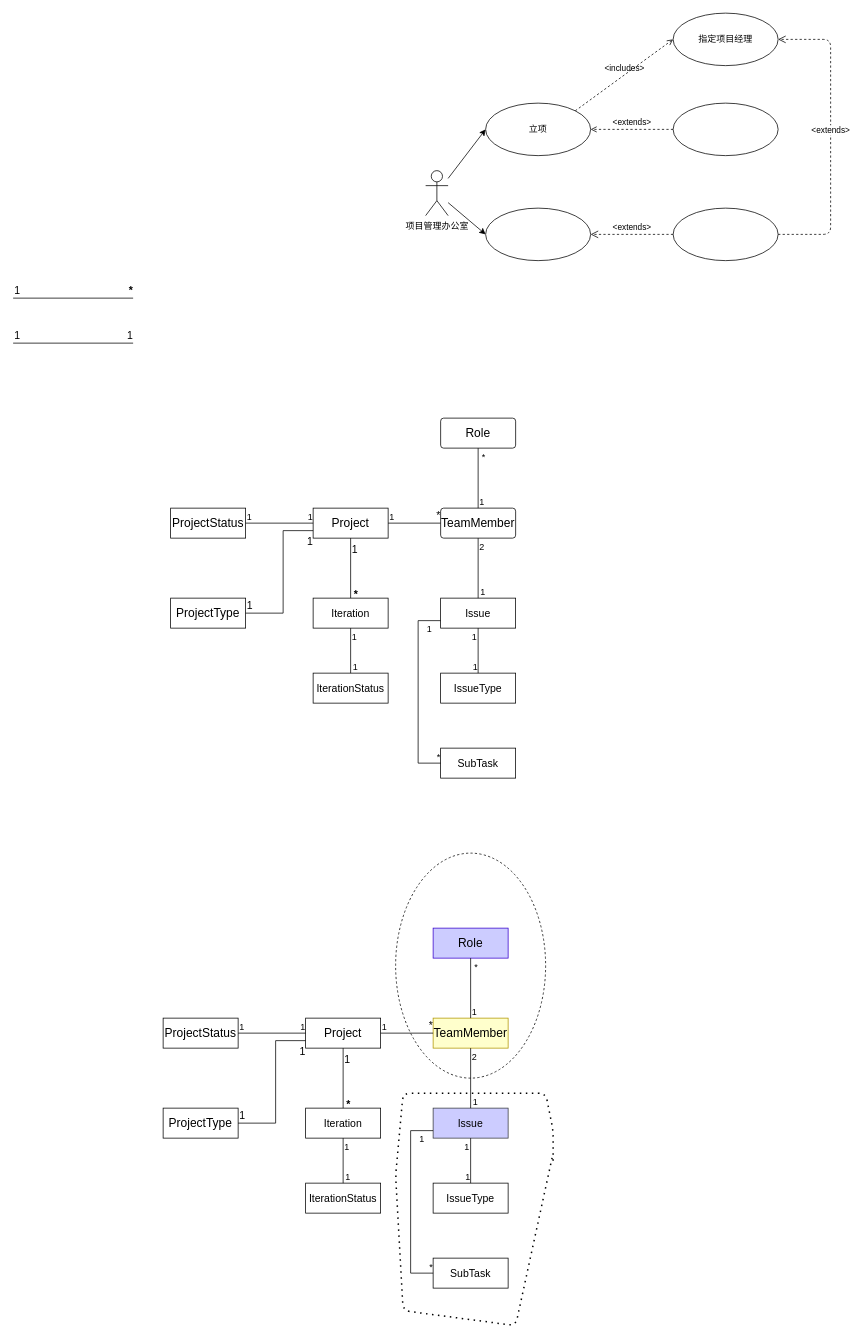
This 863x1340 diagram has some shape labels left out. The centre of each missing label's shape, as x and y in pixels:
"评审项目计划" goes at (538,234).
"通知立项" goes at (725,129).
"通知项目经理" goes at (725,234).
